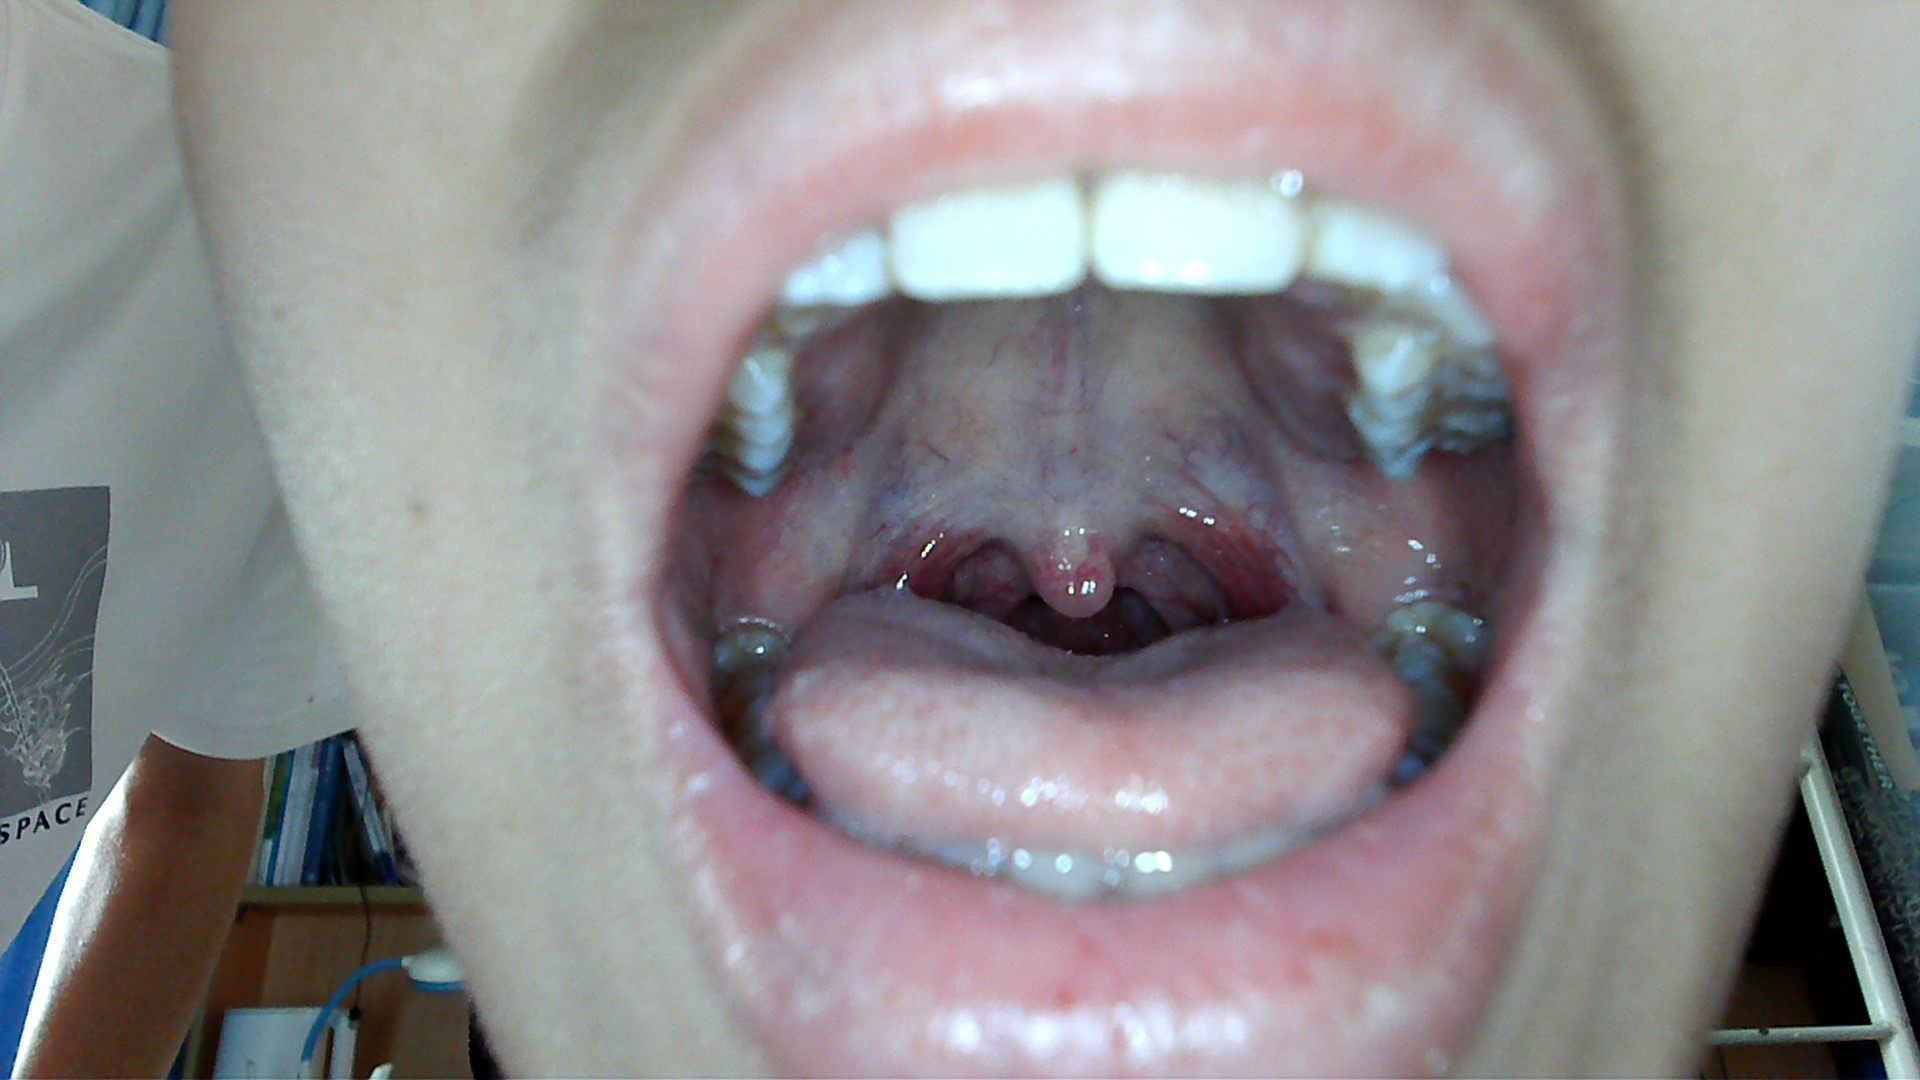throat: (1162, 484, 1294, 616), (866, 504, 982, 592)
